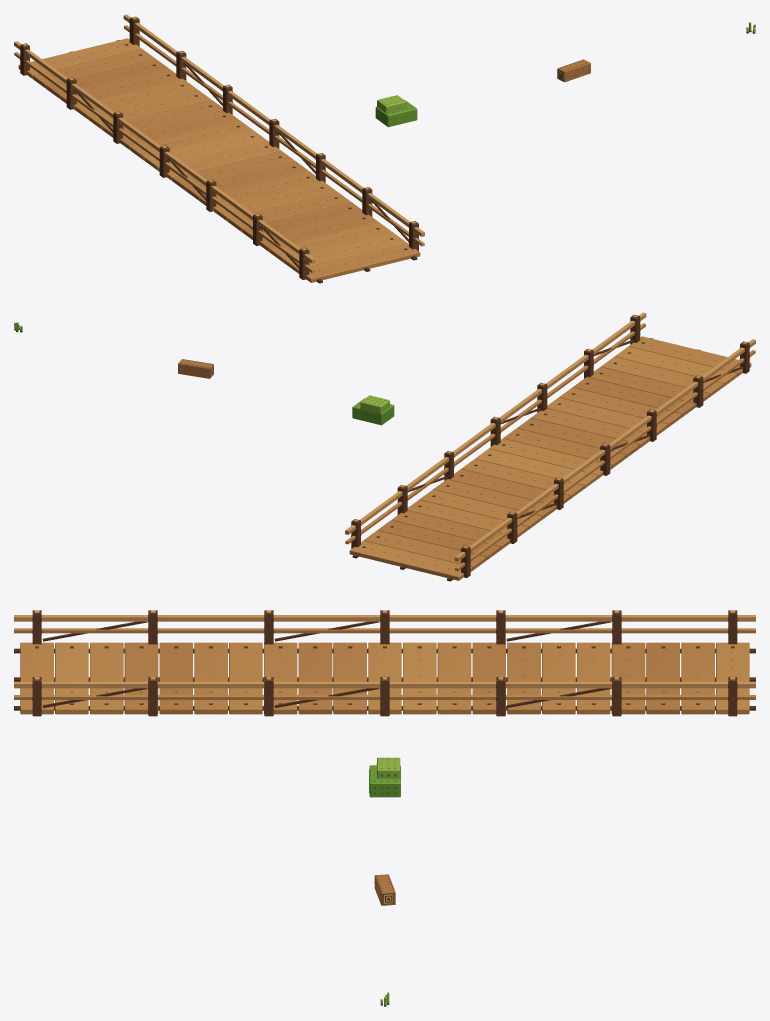
File: MapDetailImport.glb
The picture shows the model from 3 angles, top to bottom: view 1: azimuth 30°, elevation 25°; view 2: azimuth 150°, elevation 25°; view 3: azimuth 270°, elevation 25°; orthographic projection. The views are drawn at different scales.
Visible parts, largest first — view 1: BrickBridge, BrickBush, BrickLog; view 2: BrickBridge, BrickBush, BrickLog; view 3: BrickBridge, BrickBush.
Boxes of the visible parts, x1,y1,x2,y2 form: BrickBridge: (14, 14, 424, 283); BrickBush: (375, 95, 417, 127); BrickLog: (557, 59, 590, 82); BrickBridge: (345, 312, 755, 581); BrickBush: (352, 395, 394, 425); BrickLog: (178, 359, 213, 378); BrickBridge: (14, 610, 755, 716); BrickBush: (369, 757, 400, 797).
Bounding box in the file's own units: 73.73 × 3.45 × 64.
1 material, 1 textured.
